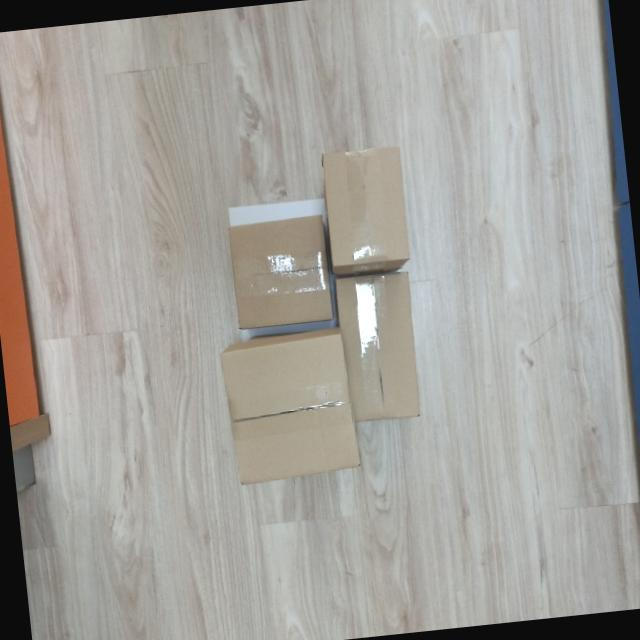box: (210, 323, 368, 490), (328, 265, 428, 428), (313, 138, 418, 279), (223, 210, 339, 336)
